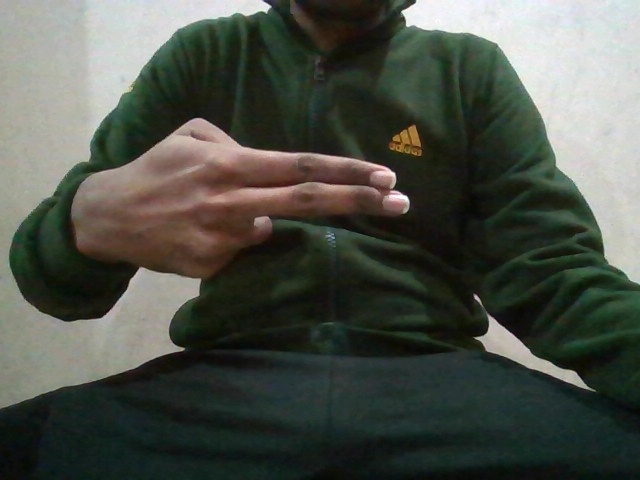H: (78, 113, 411, 283)
